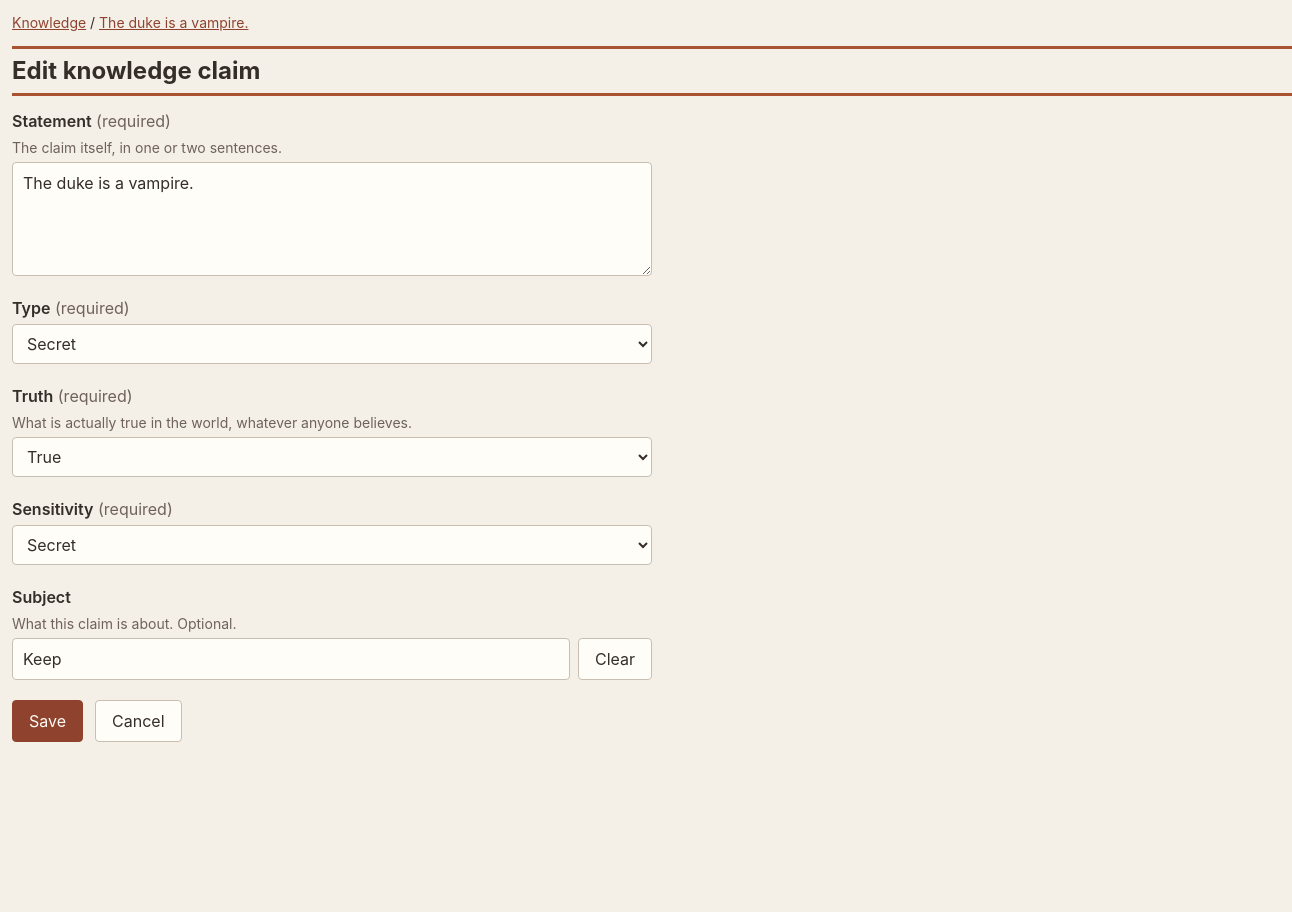
Scenario: EditKnowledgePage › keeps the user's values across a stale write
Replace the text in the text box labelled "Statement (required)" with "Mine": coordinates (332, 219) [12,162,652,276]
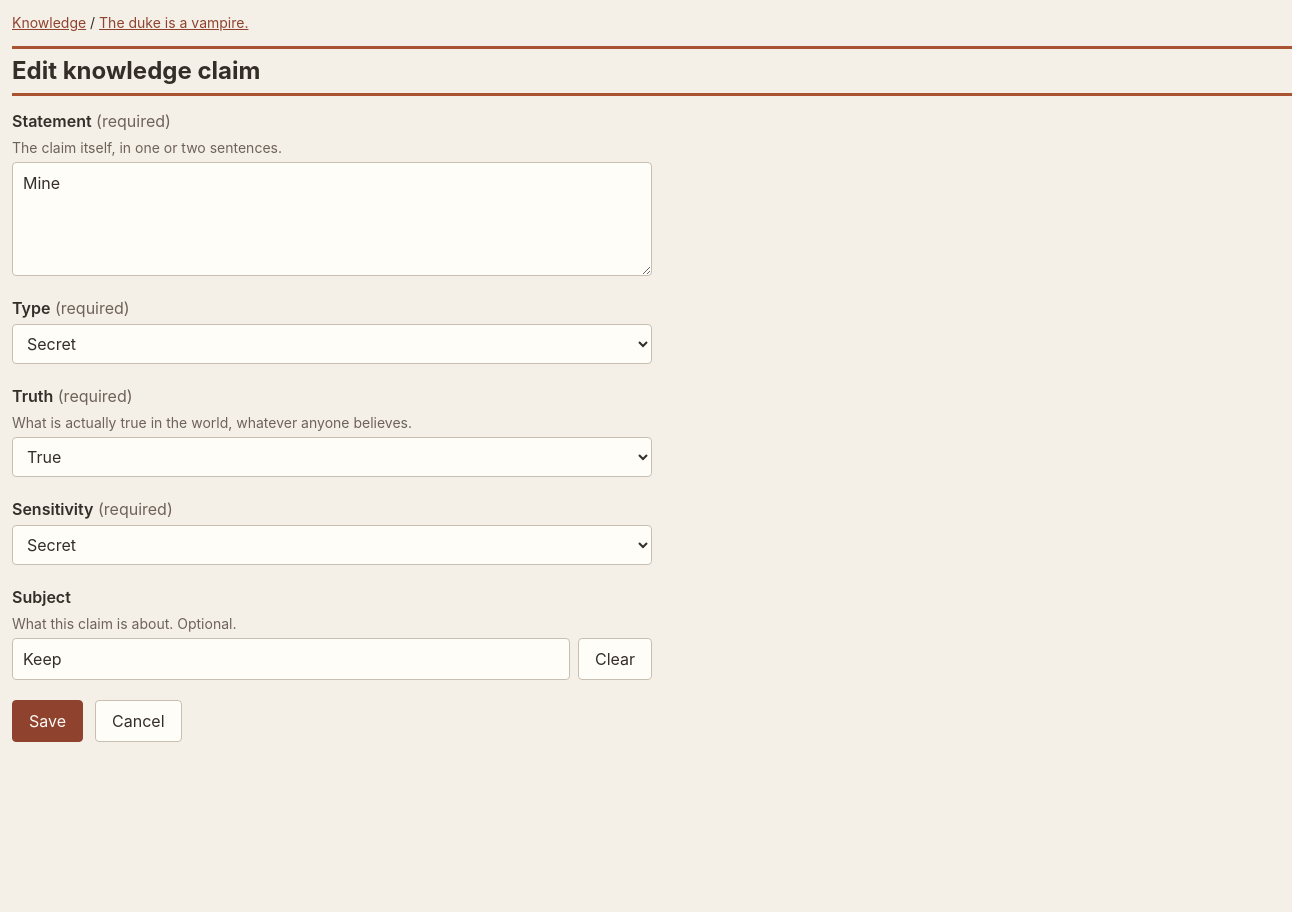
Click the button "Save": coordinates (48, 721) [12,700,83,742]
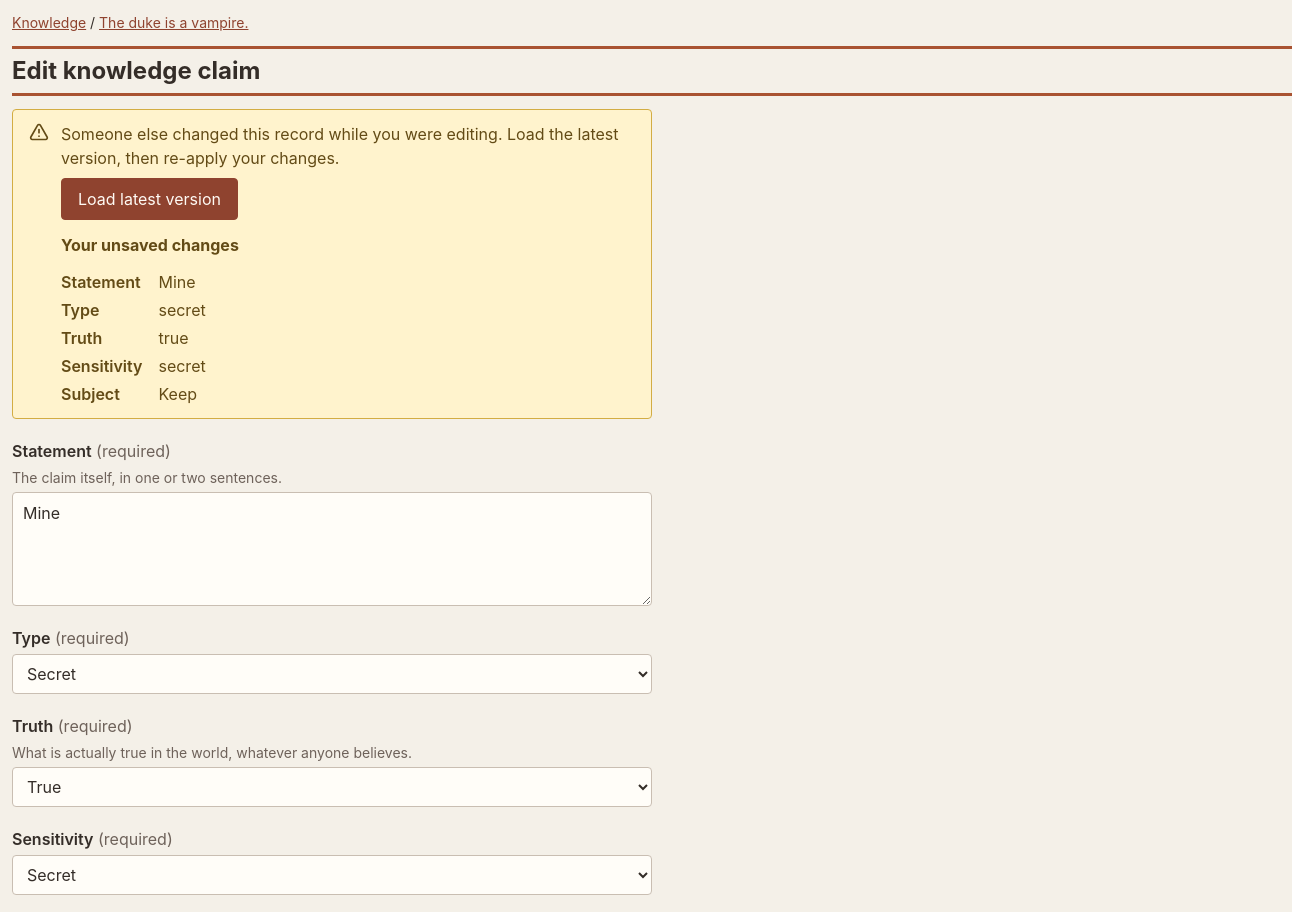
Now the message shows "Someone else changed this record", box [61,124,618,168]
Click the button "Load latest version": coordinates (149, 199) [61,178,238,220]
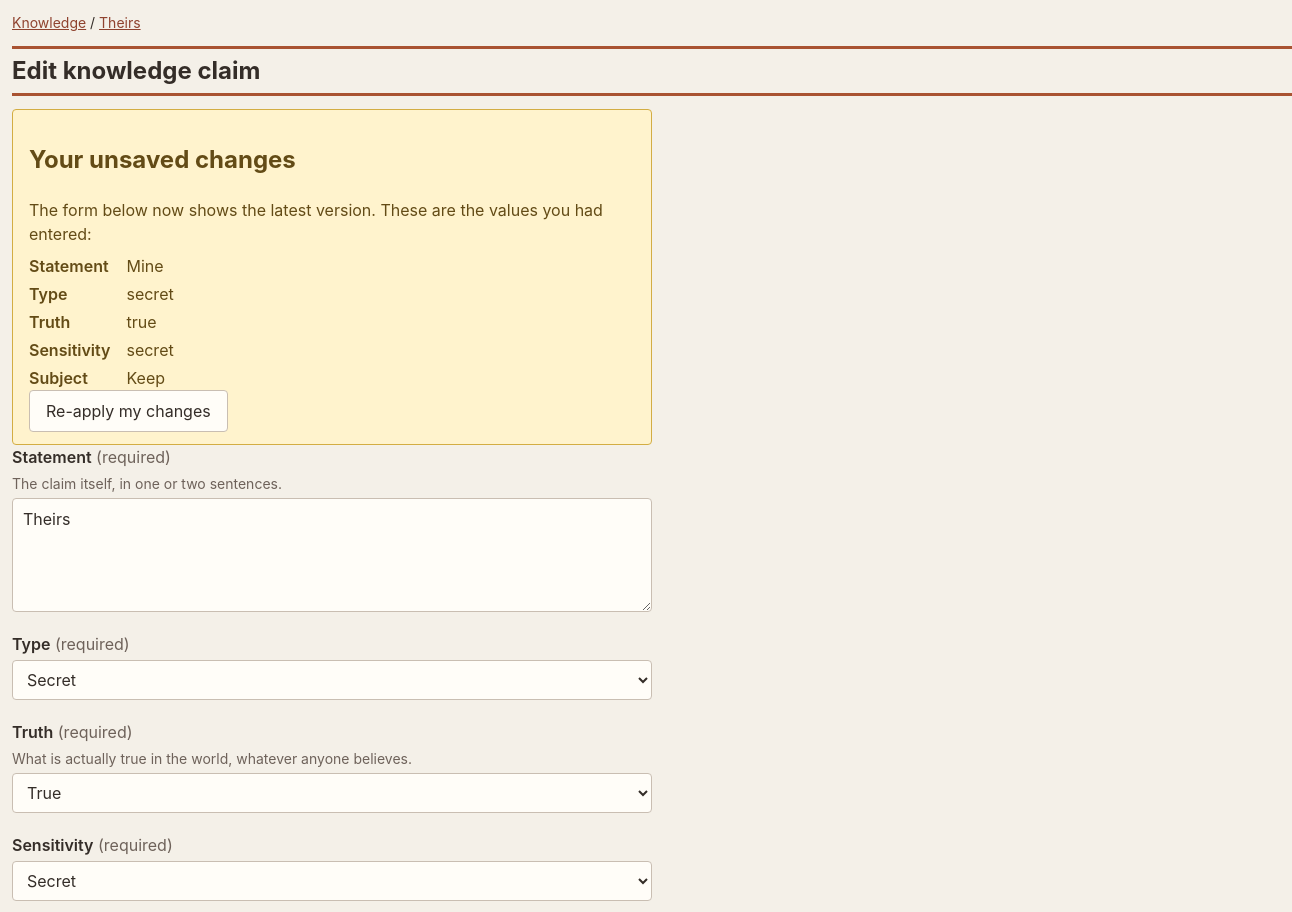
Now the text box labelled "Statement (required)" holds "Theirs", box [12,498,652,612]
Now the element "Your unsaved changes" shows "Mine", box [126,256,164,276]
